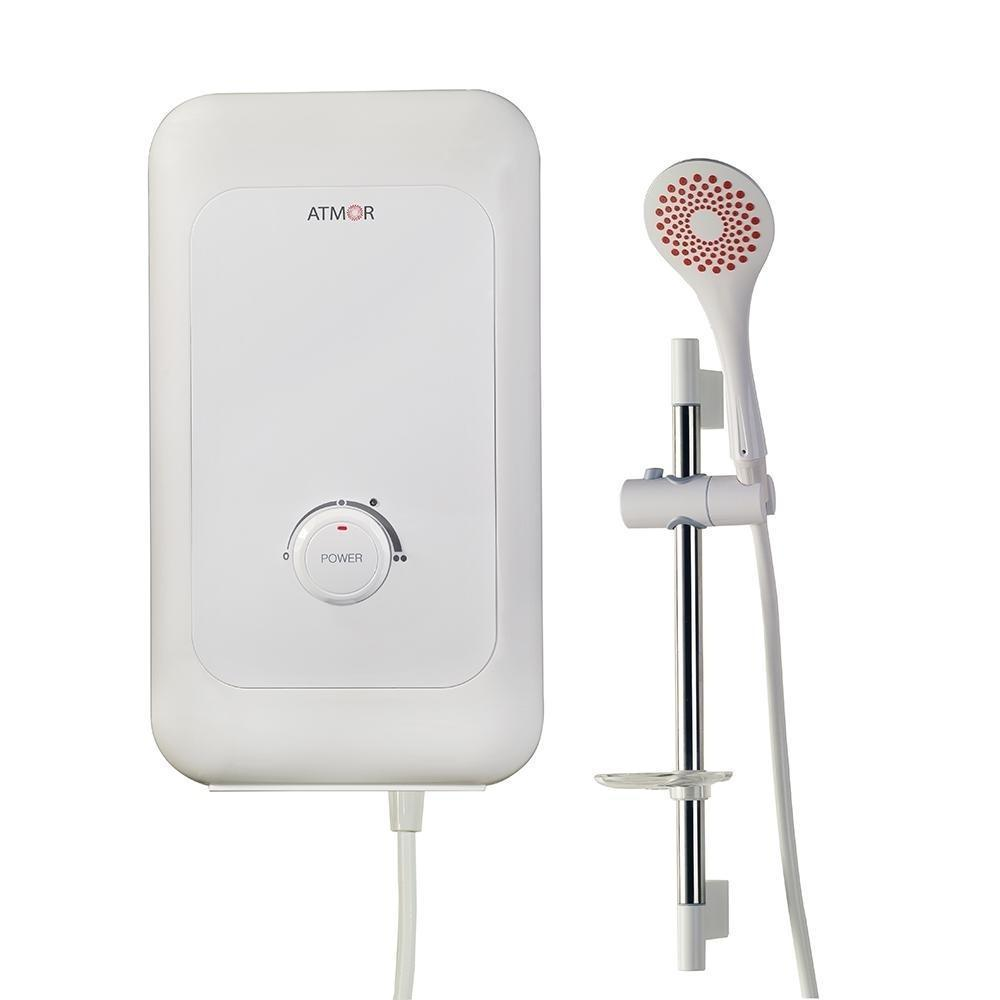Ducha: (125, 22, 856, 999)
